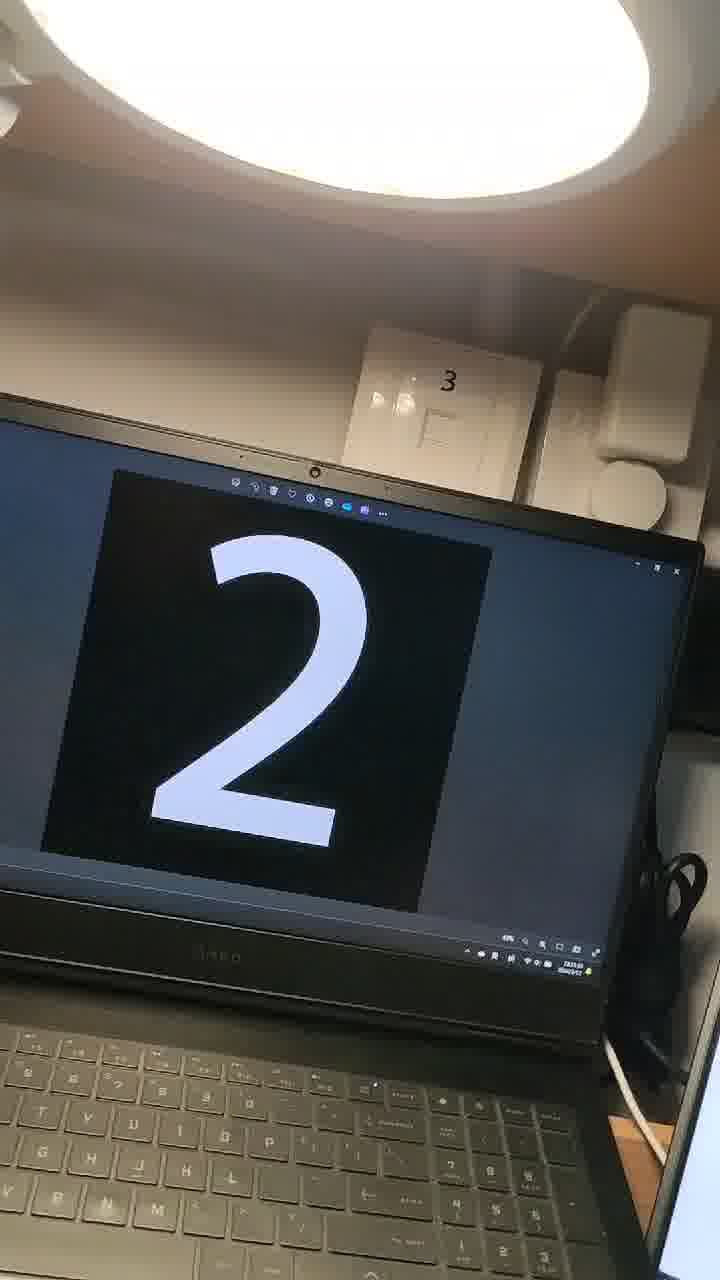two: (152, 483, 410, 867)
